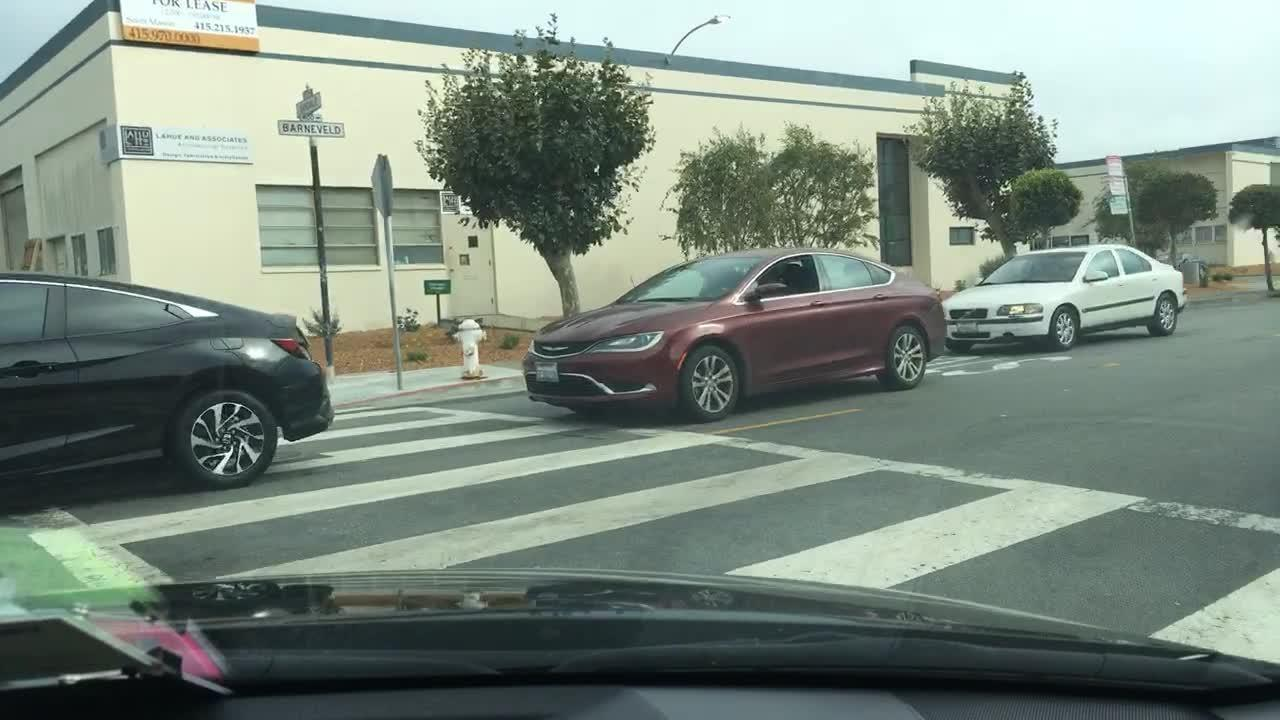Chrysler: (537, 339, 576, 356)
